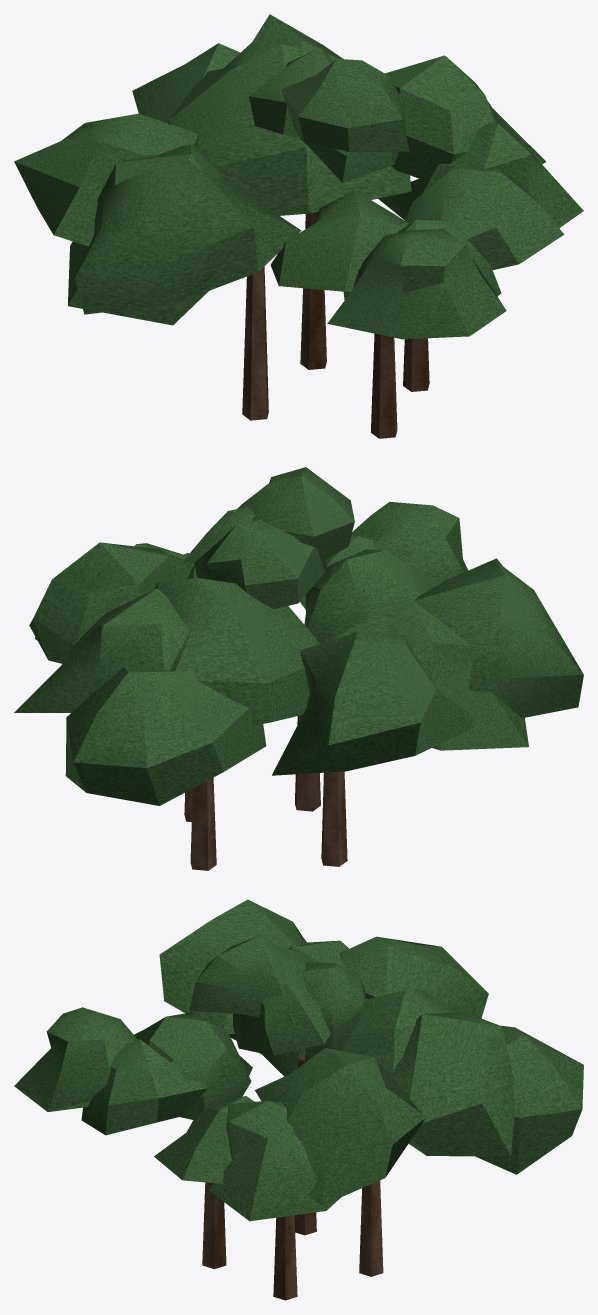
The model's file is shrub_0.glb.
3 views of the same model, one above another, from view 1: azimuth 30°, elevation 25°; view 2: azimuth 150°, elevation 25°; view 3: azimuth 270°, elevation 25° (orthographic). The views are drawn at different scales.
Parts seen in each view (by area): view 1: shrub_0; view 2: shrub_0; view 3: shrub_0.
Boxes of the visible parts, bbox=[...] form: shrub_0: bbox=[14, 14, 583, 438]; shrub_0: bbox=[14, 467, 583, 870]; shrub_0: bbox=[14, 899, 583, 1300].
Bounding box in the file's own units: 2.3 × 1.53 × 2.46.
2 materials, 2 textured.
